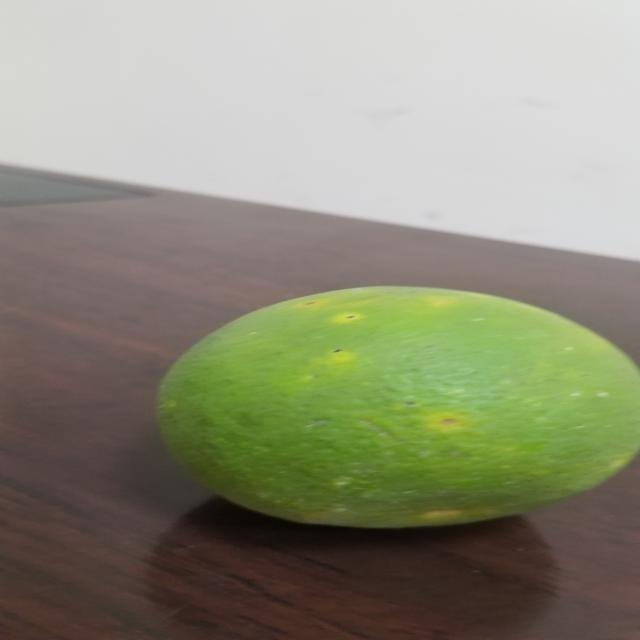agrume: (156, 280, 640, 533)
